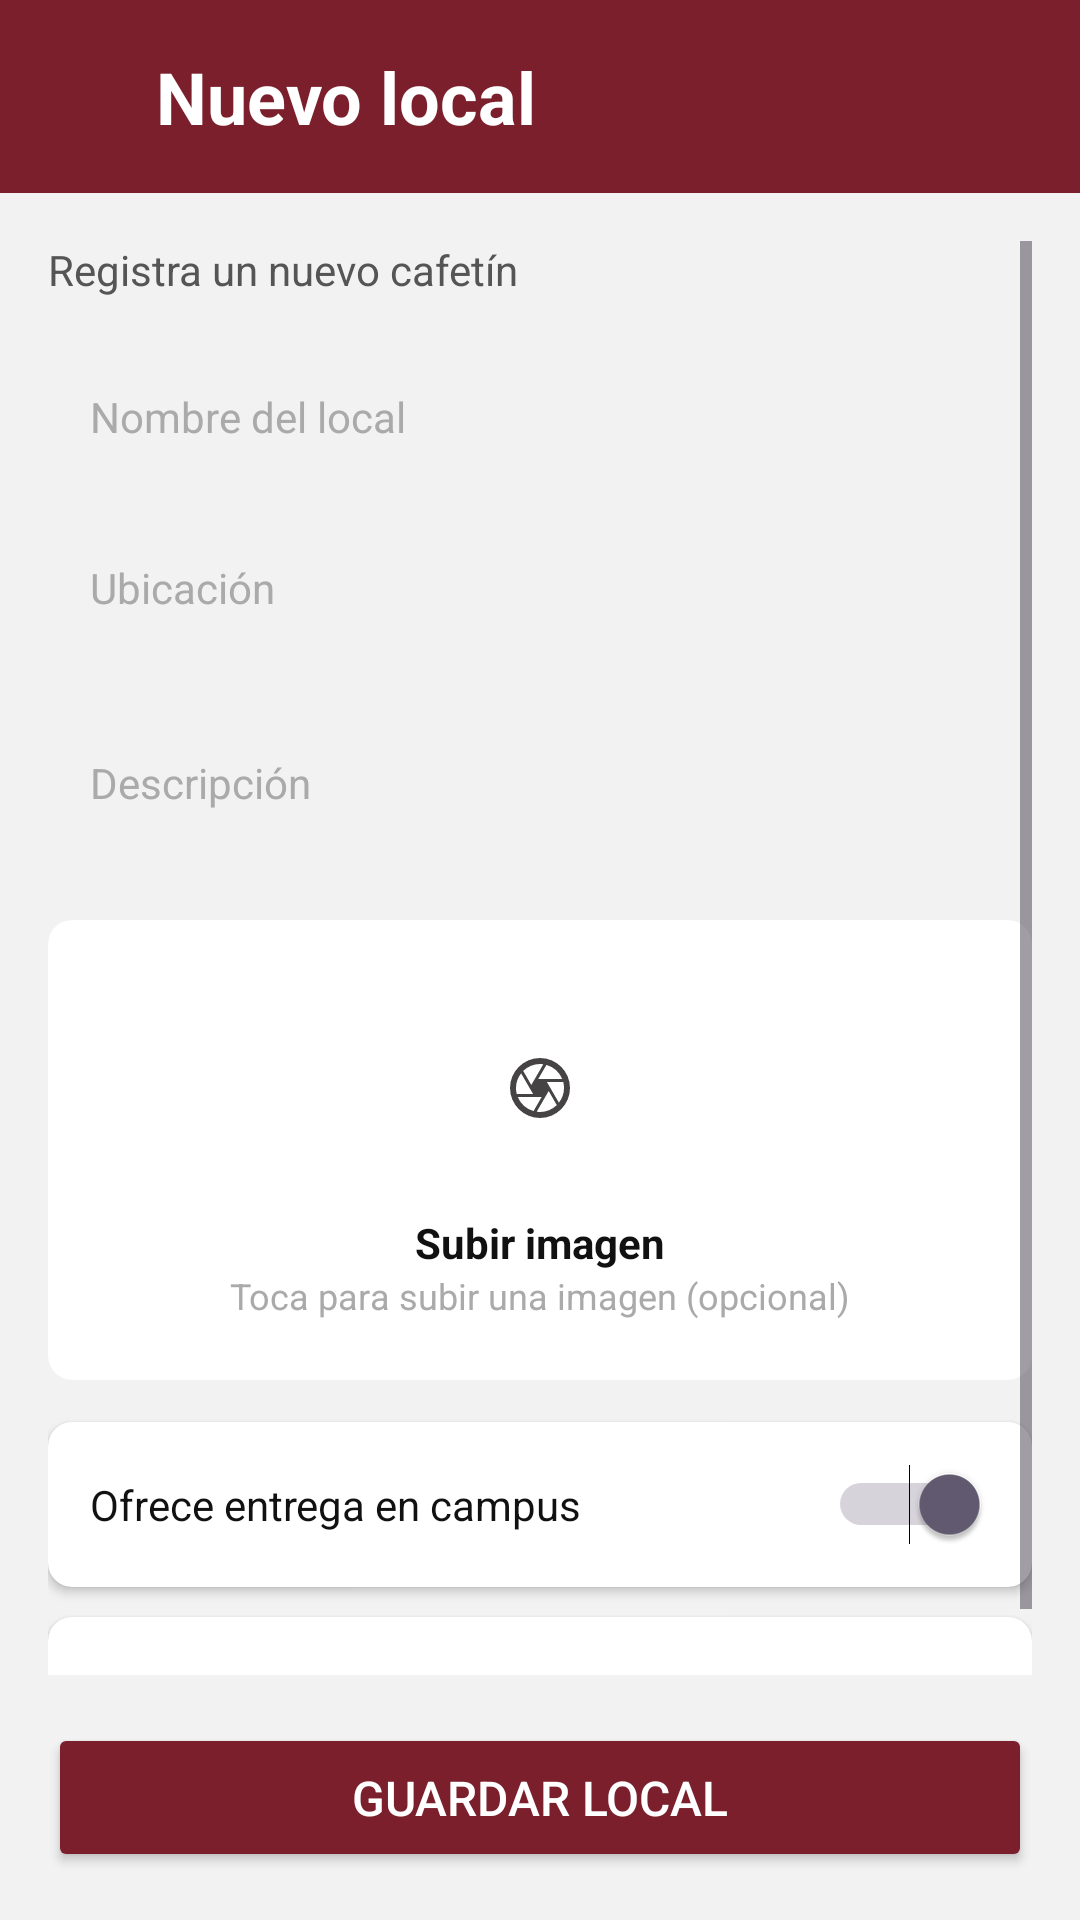

Screen size 1080×1920. Icon name, then its center in pixels as [x,y]:
Cámara: [540,1088]
